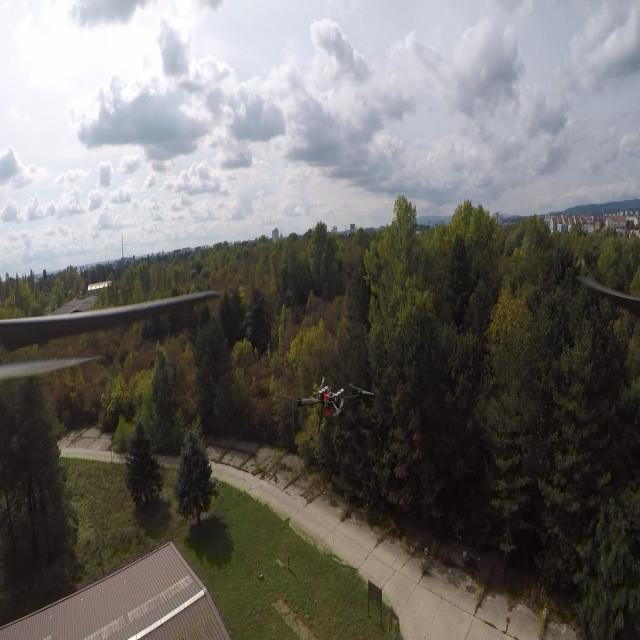UAV: (287, 375, 376, 445)
